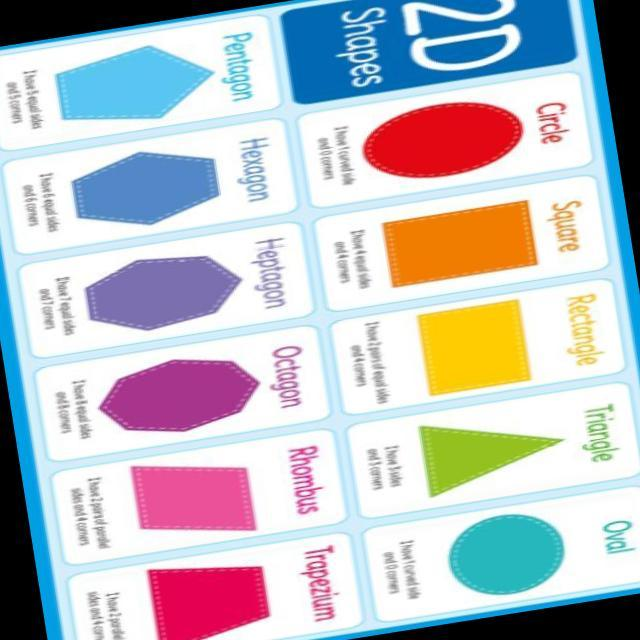circle: (349, 90, 548, 193), (435, 496, 587, 606)
square: (369, 196, 580, 292), (406, 295, 564, 419)
triangle: (406, 406, 578, 502)
